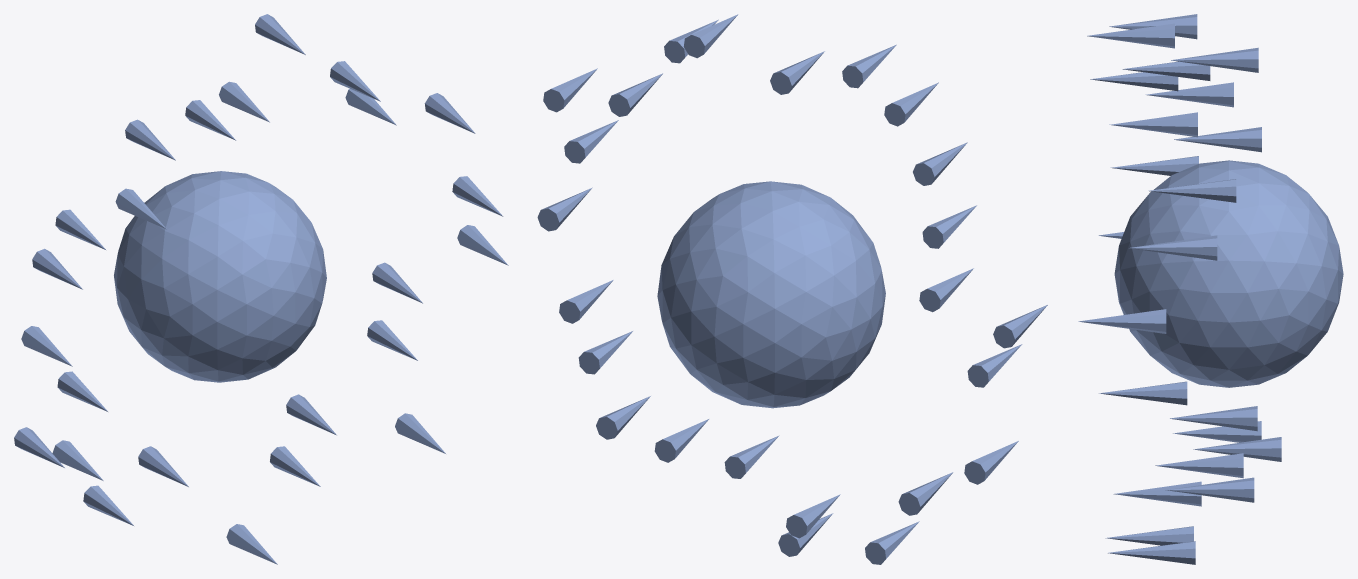
The model's file is nature_178.glb.
3 renders of one model, left to right at view 1: azimuth 30°, elevation 25°; view 2: azimuth 150°, elevation 25°; view 3: azimuth 270°, elevation 25°, orthographic. The views are drawn at different scales.
Visible parts, largest first — view 1: world; view 2: world; view 3: world.
Part boxes in pixels (<box>): world: <box>14,14,508,564</box>; world: <box>537,14,1047,564</box>; world: <box>1078,14,1343,564</box>.
Size of the model in its own units: 2.2 by 2.3 by 1.05.
